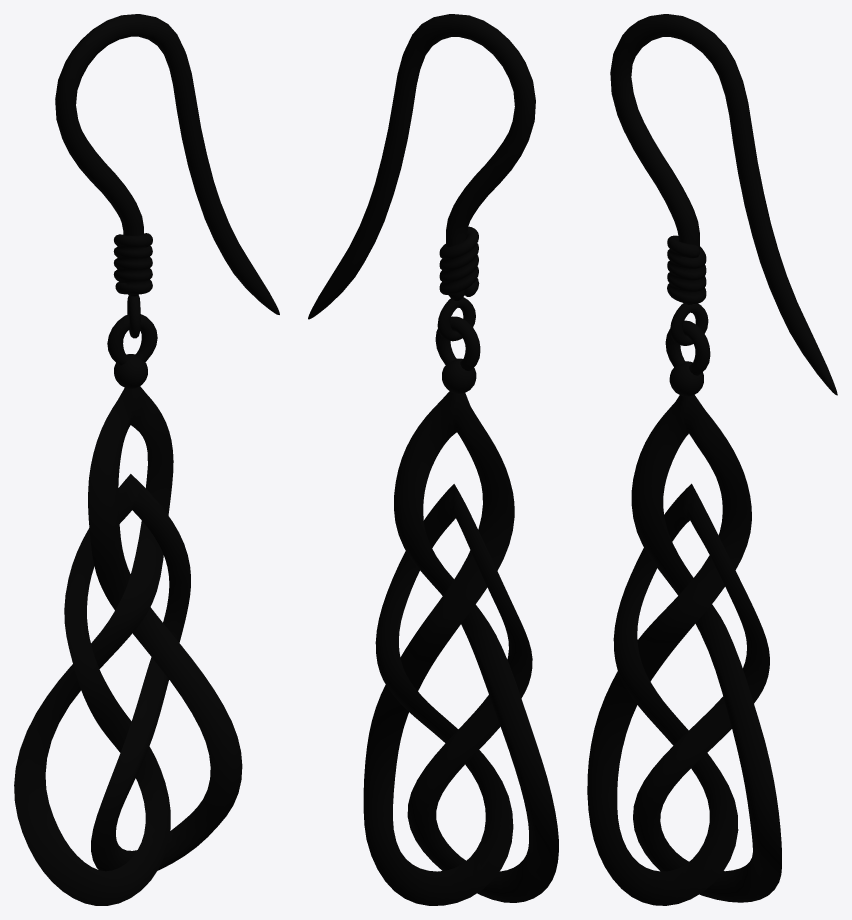
Rendered from earing.fbx.
3 views of the same model, side by side, from view 1: azimuth 30°, elevation 25°; view 2: azimuth 150°, elevation 25°; view 3: azimuth 330°, elevation 25° (orthographic).
Parts seen in each view (by area): view 1: node_id30; view 2: node_id30; view 3: node_id30.
Boxes of the visible parts, x1,y1,x2,y2 form: node_id30: (14, 14, 279, 905); node_id30: (308, 14, 558, 905); node_id30: (587, 14, 837, 905).
Bounding box in the file's own units: 0.1562 × 0.512 × 0.0362.
Materials: 1 (1 with a texture image).
